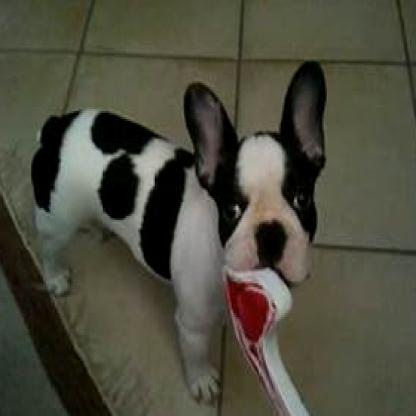dog: (30, 62, 327, 406)
